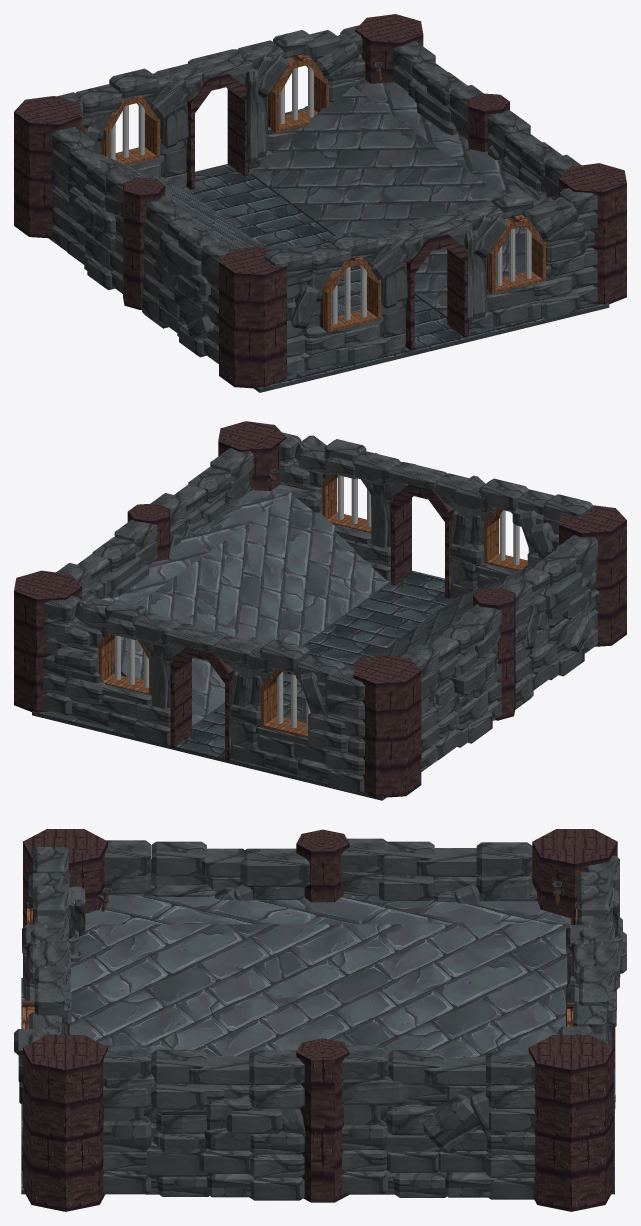
The model's file is room_boulder.fbx.
The picture shows the model from 3 angles, top to bottom: view 1: azimuth 30°, elevation 25°; view 2: azimuth 150°, elevation 25°; view 3: azimuth 270°, elevation 25°; orthographic projection. The views are drawn at different scales.
Parts seen in each view (by area): view 1: pasted__pasted__pCylinder8; view 2: pasted__pasted__pCylinder8; view 3: pasted__pasted__pCylinder8.
Part boxes in pixels (bbox=[...]): pasted__pasted__pCylinder8: bbox=[14, 14, 626, 392]; pasted__pasted__pCylinder8: bbox=[14, 421, 626, 800]; pasted__pasted__pCylinder8: bbox=[14, 829, 626, 1211].
Bounding box in the file's own units: 0.2097 × 0.0637 × 0.2246.
11 materials, 9 textured.
